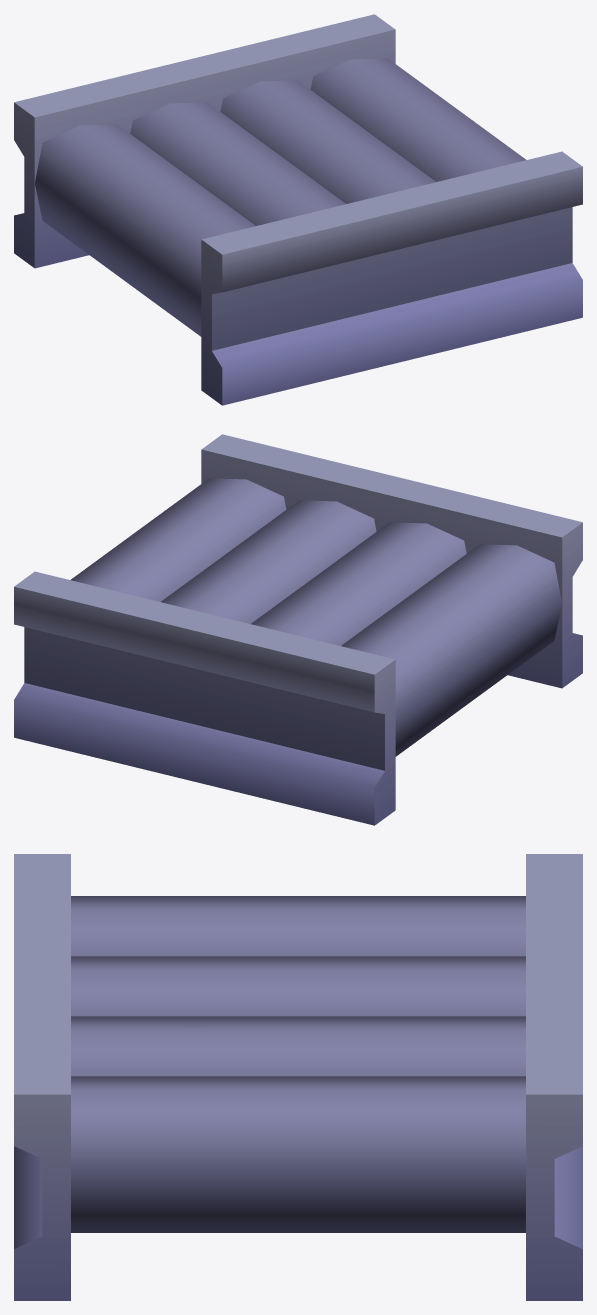
The model's file is kenney-conveyor-conveyor-bars-high.glb.
3 views of the same model, one above another, from view 1: azimuth 30°, elevation 25°; view 2: azimuth 150°, elevation 25°; view 3: azimuth 270°, elevation 25° (orthographic). The views are drawn at different scales.
Parts seen in each view (by area): view 1: conveyor-bars-high; view 2: conveyor-bars-high; view 3: conveyor-bars-high.
Part boxes in pixels (x1,y1,x2,y2): conveyor-bars-high: (14, 14, 582, 405); conveyor-bars-high: (14, 434, 582, 825); conveyor-bars-high: (14, 854, 582, 1300).
Bounding box in the file's own units: 1 × 0.3999 × 1.
Materials: 1 (1 with a texture image).
